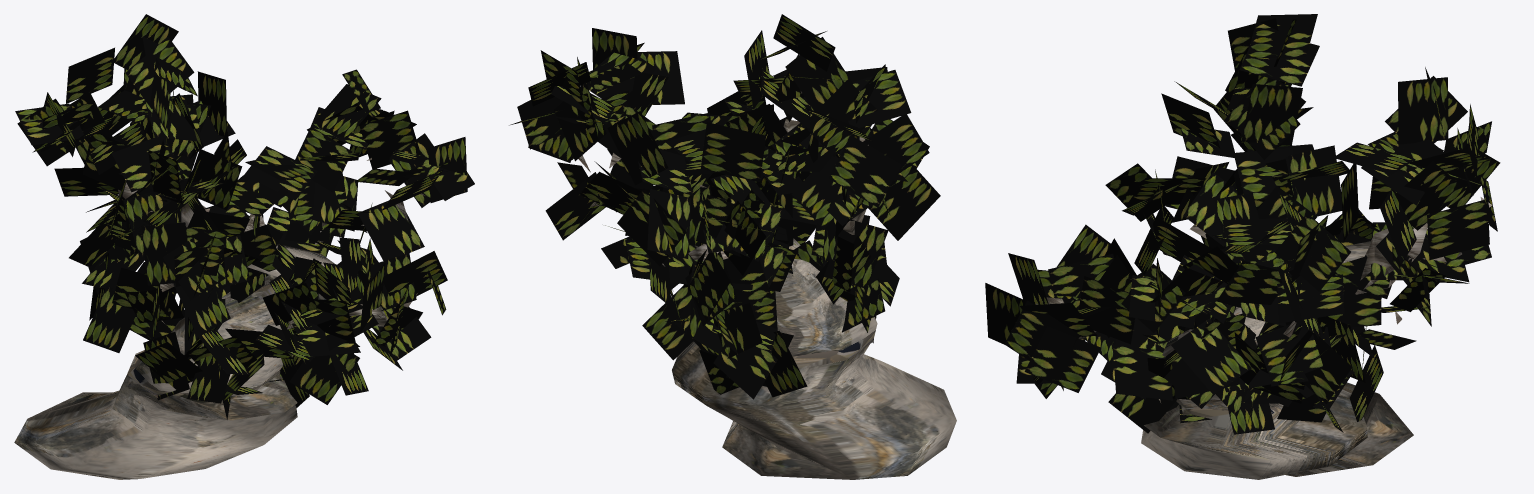
File: tree-layered-07-lod1.glb
The picture shows the model from 3 angles, left to right: view 1: azimuth 30°, elevation 25°; view 2: azimuth 150°, elevation 25°; view 3: azimuth 270°, elevation 25°; orthographic projection. The views are drawn at different scales.
Visible parts, largest first — view 1: tree-layered-07_MATERIAL_BATCH; view 2: tree-layered-07_MATERIAL_BATCH; view 3: tree-layered-07_MATERIAL_BATCH.
Part boxes in pixels (<box>): tree-layered-07_MATERIAL_BATCH: <box>14,14,474,479</box>; tree-layered-07_MATERIAL_BATCH: <box>509,14,956,479</box>; tree-layered-07_MATERIAL_BATCH: <box>985,14,1500,479</box>.
Size of the model in its own units: 13.54 by 13 by 14.53.
Materials: 3 (3 with a texture image).
